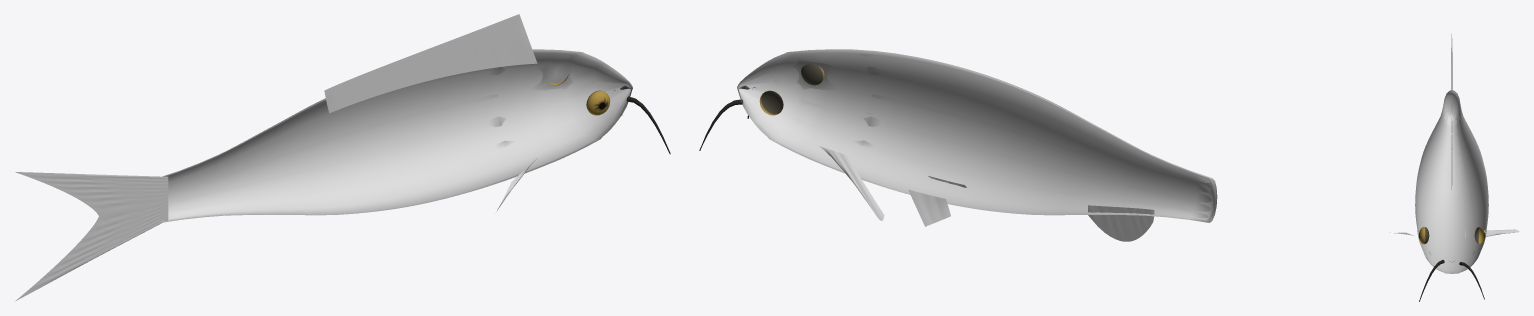
The model's file is mudfish.glb.
The picture shows the model from 3 angles, left to right: view 1: azimuth 30°, elevation 25°; view 2: azimuth 150°, elevation 25°; view 3: azimuth 270°, elevation 25°; orthographic projection. The views are drawn at different scales.
Visible parts, largest first — view 1: BodyLow, Fins, Body, Eyes; view 2: BodyLow, Body, Fins, Eyes; view 3: BodyLow, Body, Fins, Eyes, Extras.
Boxes of the visible parts, left/top/right/bottom form: BodyLow: left=159, top=49, right=632, bottom=222; Fins: left=15, top=14, right=537, bottom=301; Body: left=161, top=53, right=632, bottom=221; Eyes: left=545, top=75, right=610, bottom=115; BodyLow: left=737, top=49, right=1217, bottom=222; Body: left=737, top=52, right=1216, bottom=221; Fins: left=819, top=112, right=1154, bottom=241; Eyes: left=759, top=64, right=824, bottom=115; BodyLow: left=1415, top=90, right=1488, bottom=273; Body: left=1415, top=92, right=1488, bottom=273; Fins: left=1390, top=34, right=1519, bottom=237; Eyes: left=1419, top=227, right=1484, bottom=244; Extras: left=1419, top=260, right=1484, bottom=301.
Size of the model in its own units: 0.7069 by 0.1896 by 0.1942.
